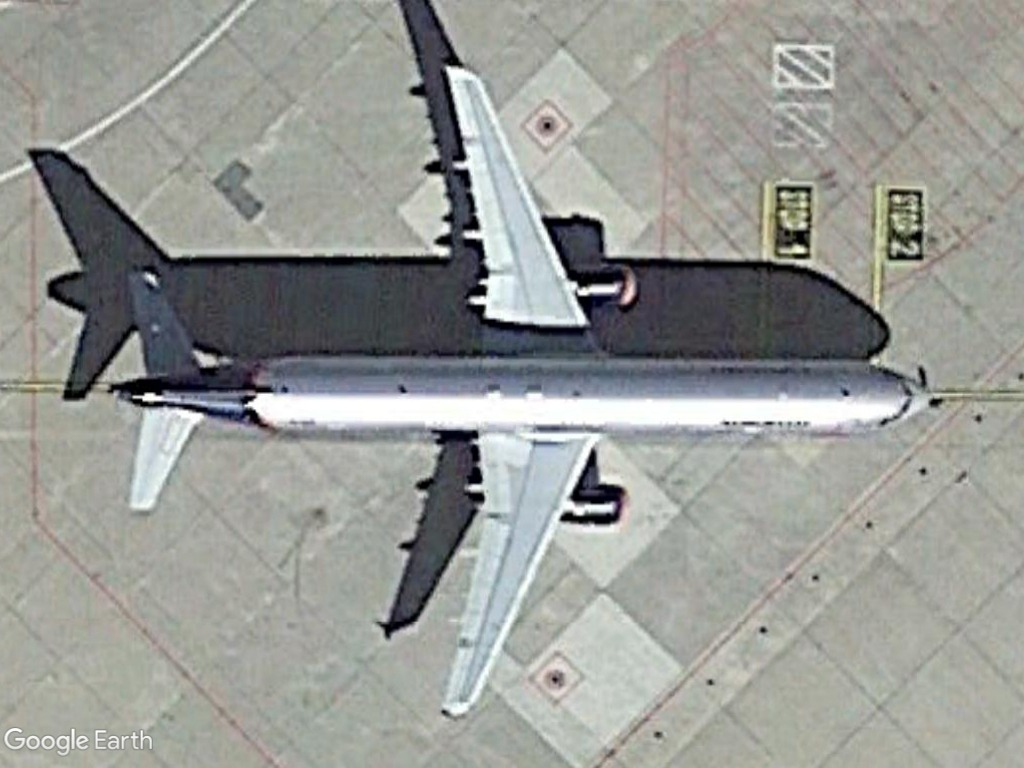airliner: (117, 63, 944, 726)
